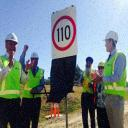speed_limit_110: (51, 3, 79, 61)
